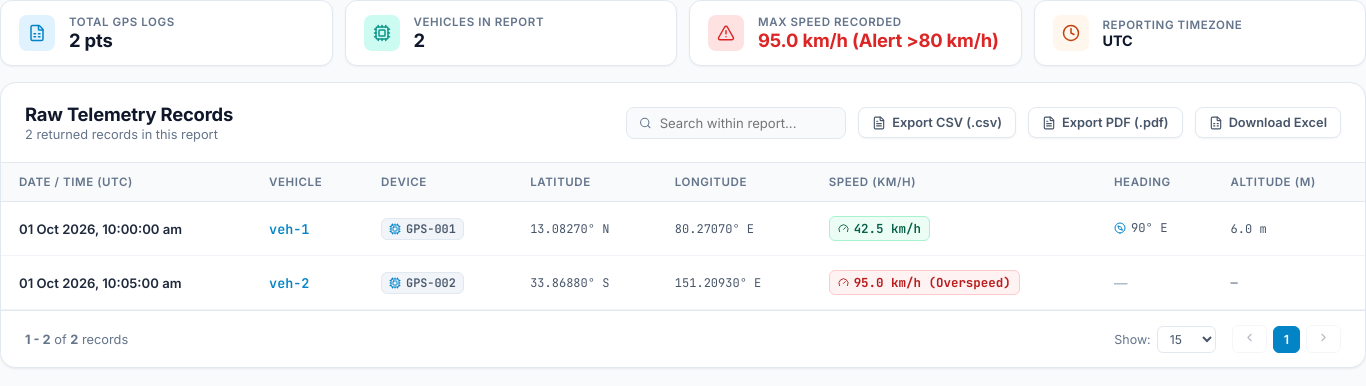
ReportResultsTable › filters rows with the search box
The image size is (1366, 386).
Type "gps-002" into the field labelled "Search within report" at (746, 122), box [660, 114, 833, 130]
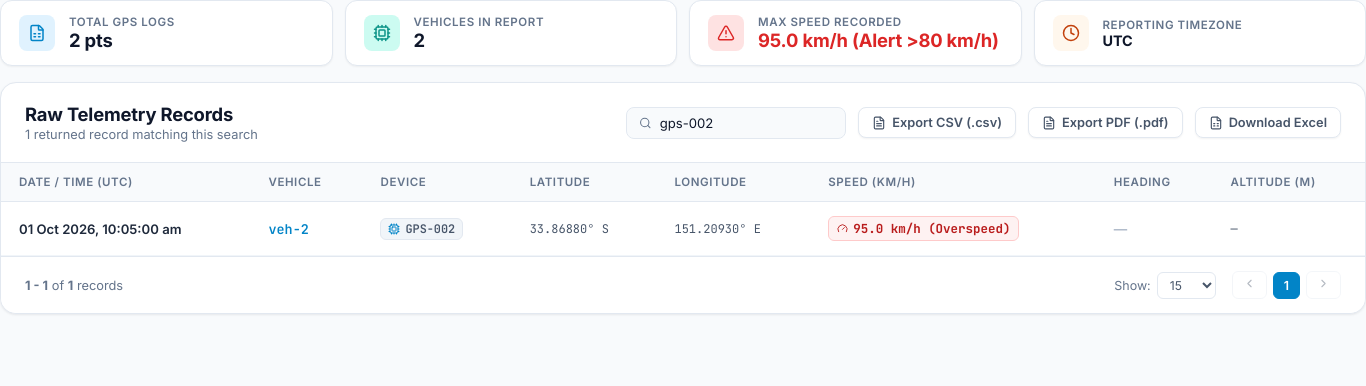
Check: the text "veh-2" is shown, box [268, 220, 309, 238]
Check: the text "veh-1" is gone
